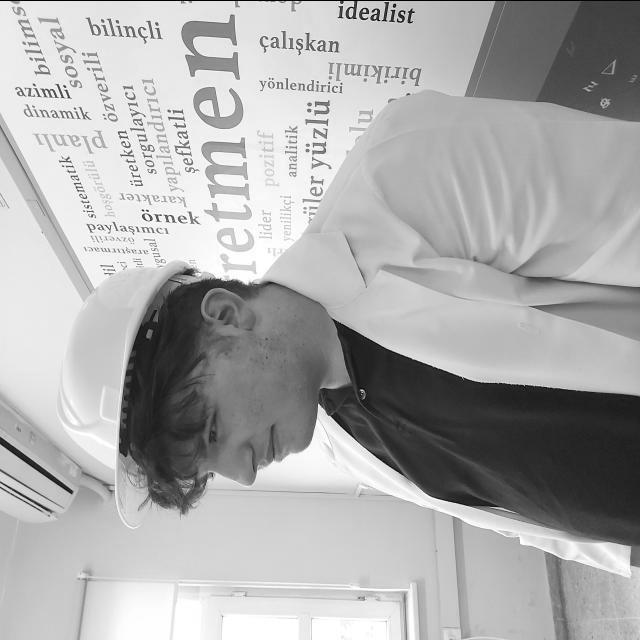construction helmet: (60, 259, 190, 528)
